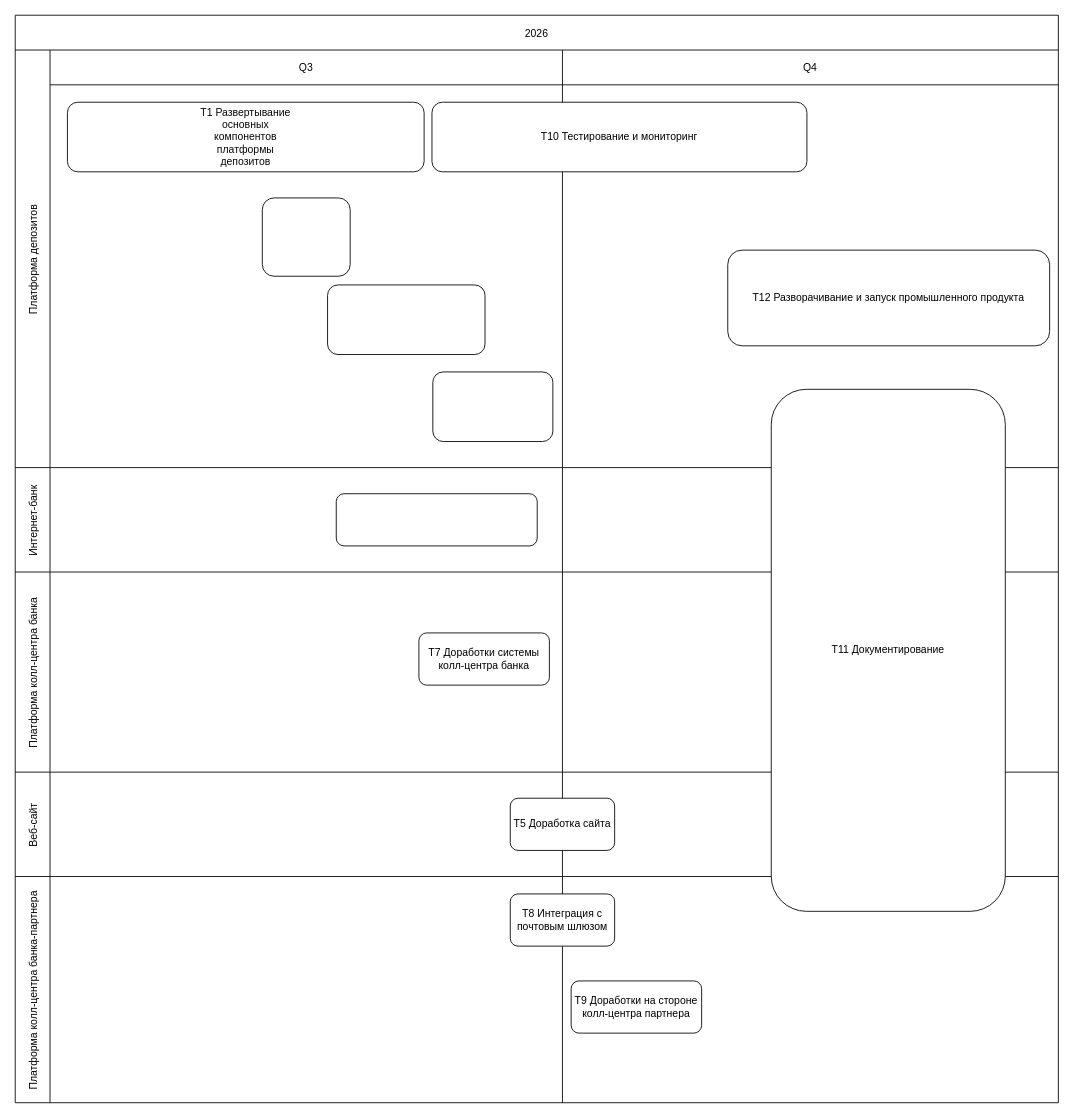
Image size: 1074x1118. Some labels were removed from this diagram. The shapes that lost their labels are listed below. From the top down, each one's box as (x1, y1, x2, y2) in pixels, then its label:
(261, 197, 350, 276): T2 Интеграция с АБС
(327, 284, 485, 355): T4 Создание системы персонализации предложений
(432, 371, 553, 442): T6 Определение правил маршрутизации заявок в колл-центры
(335, 493, 537, 546): T3 Доработка интернет-банка
